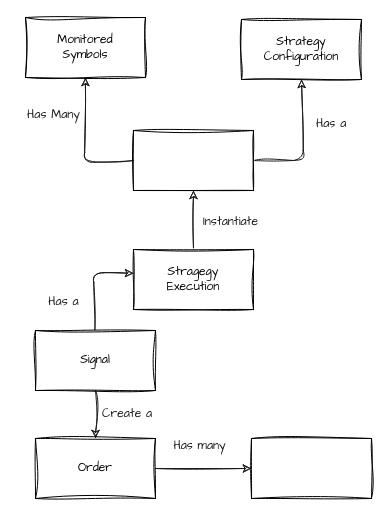
This 389x516 diagram has some shape labels left out. The centre of each missing label's shape, as x and y in pixels:
"Order Events" goes at (x=311, y=468).
"Stragegy" goes at (x=193, y=160).
